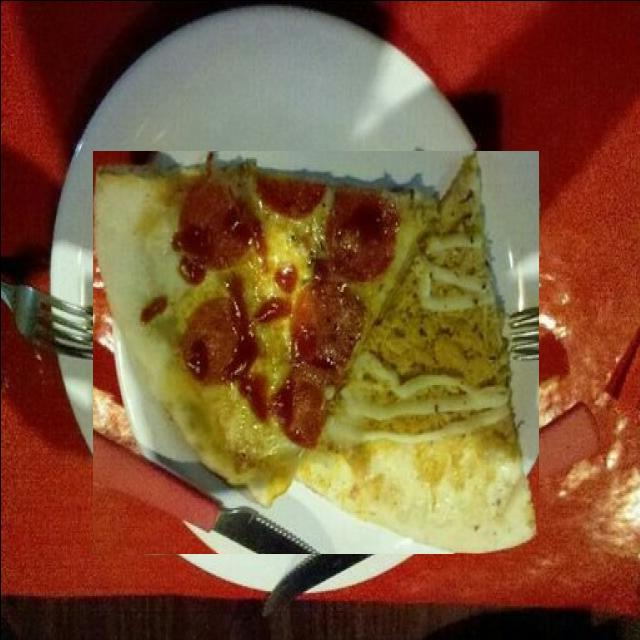pepperoni: (233, 186, 305, 283), (266, 281, 341, 373), (376, 182, 451, 268), (296, 372, 359, 451), (394, 294, 448, 386), (305, 176, 379, 216)
pizza: (92, 150, 538, 553)
